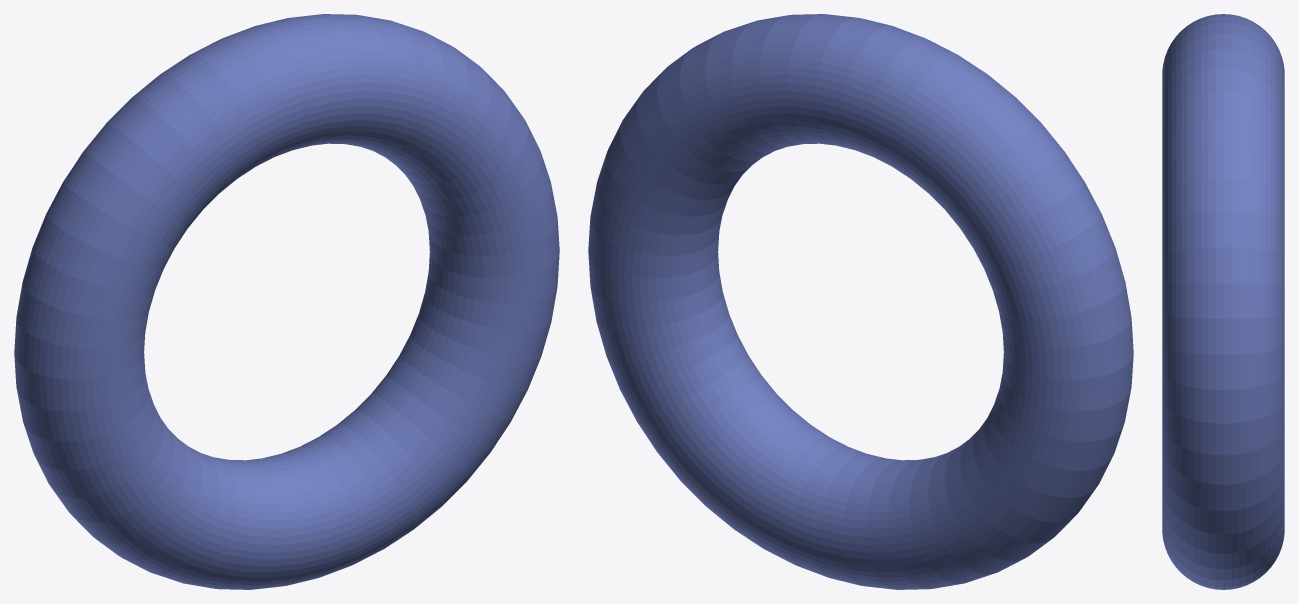
The picture shows the model from 3 angles, left to right: view 1: azimuth 30°, elevation 25°; view 2: azimuth 150°, elevation 25°; view 3: azimuth 270°, elevation 25°; orthographic projection. The views are drawn at different scales.
Parts seen in each view (by area): view 1: world; view 2: world; view 3: world.
Part boxes in pixels (left/top/right/bottom): world: left=14, top=14, right=559, bottom=589; world: left=588, top=14, right=1133, bottom=589; world: left=1162, top=14, right=1284, bottom=589.
Bounding box in the file's own units: 14.4 × 14.37 × 3.06.
